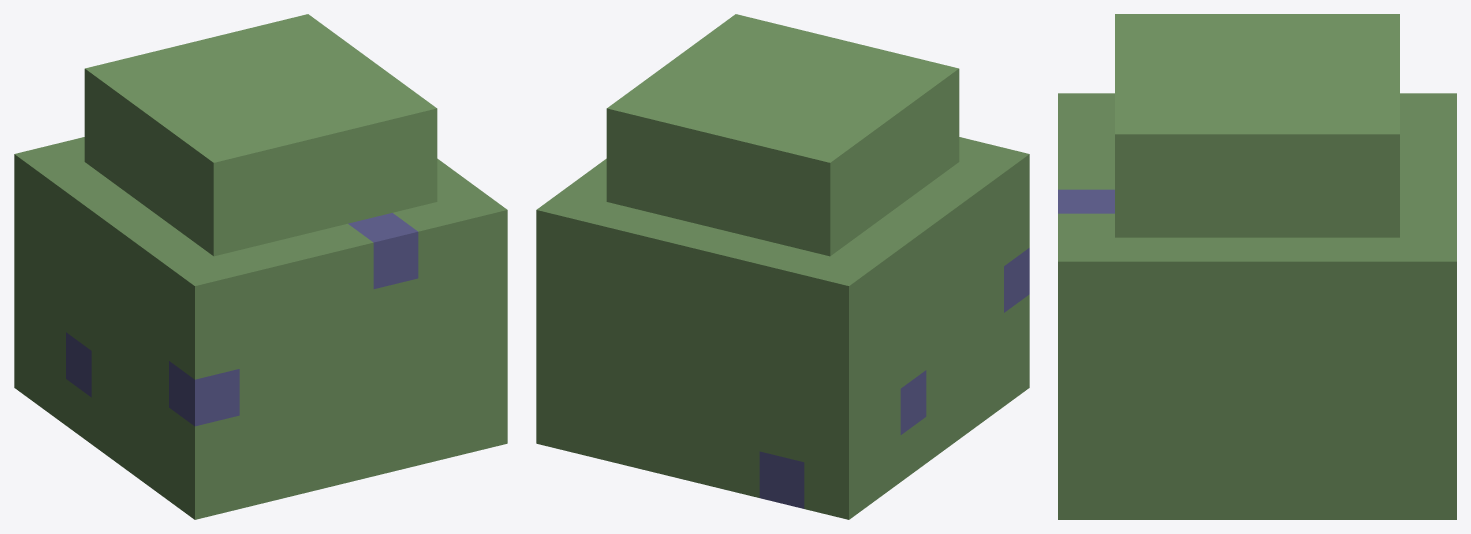
Rendered from arandano_03.glb.
3 renders of one model, left to right at view 1: azimuth 30°, elevation 25°; view 2: azimuth 150°, elevation 25°; view 3: azimuth 270°, elevation 25°, orthographic. The views are drawn at different scales.
Parts seen in each view (by area): view 1: arandano_03; view 2: arandano_03; view 3: arandano_03.
Boxes of the visible parts, left/top/right/bottom form: arandano_03: left=14, top=14, right=507, bottom=519; arandano_03: left=536, top=14, right=1029, bottom=519; arandano_03: left=1058, top=14, right=1456, bottom=519.
Bounding box in the file's own units: 0.7 × 0.7 × 0.7.
